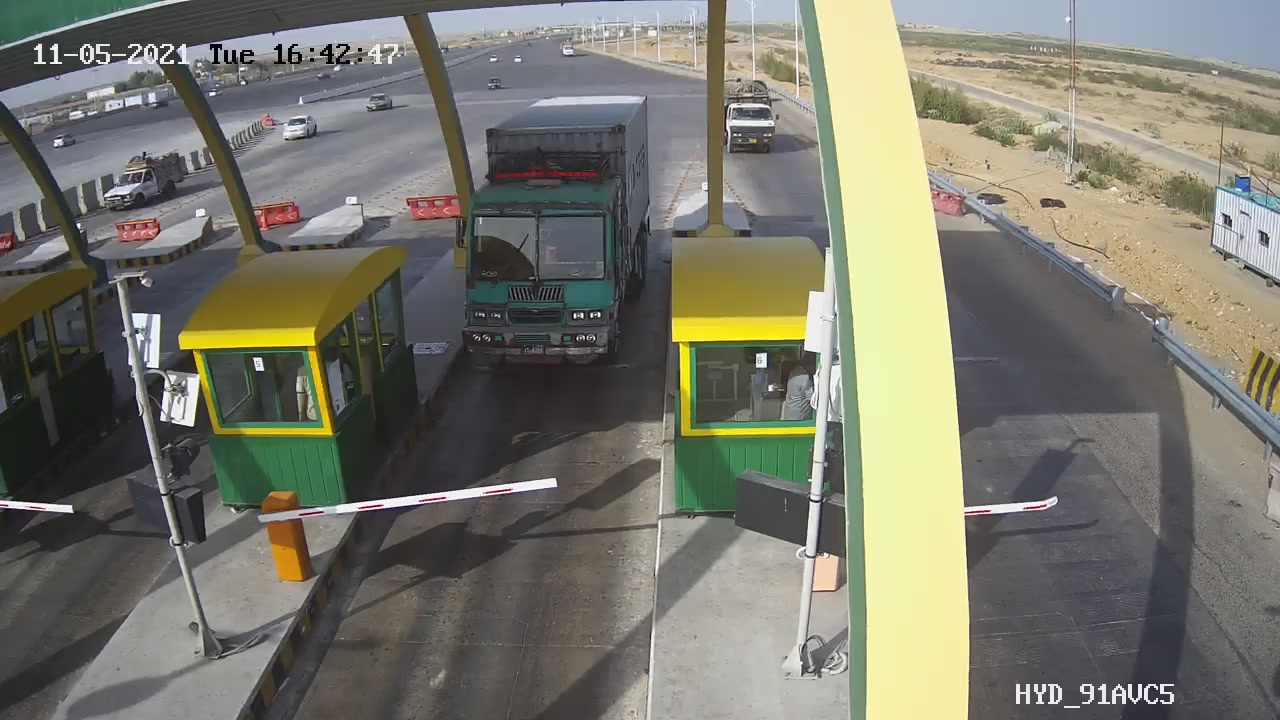F6: (442, 79, 678, 403)
